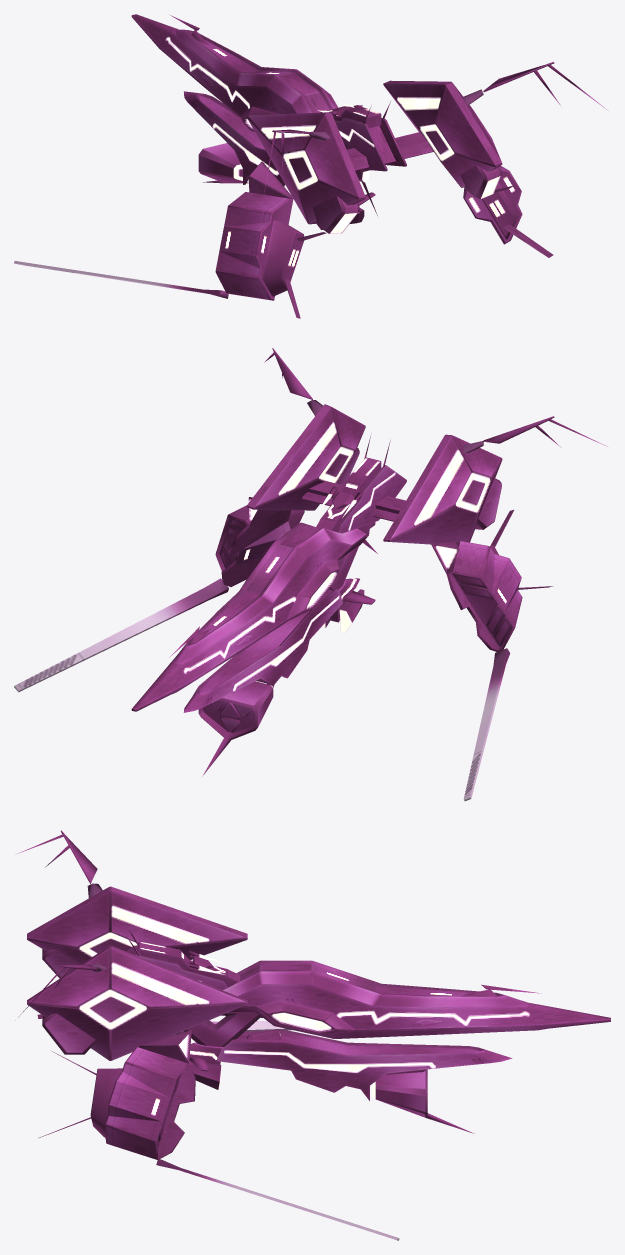
3 views of the same model, one above another, from view 1: azimuth 30°, elevation 25°; view 2: azimuth 150°, elevation 25°; view 3: azimuth 270°, elevation 25° (orthographic).
Visible parts, largest first — view 1: body; view 2: body; view 3: body.
Part boxes in pixels (x1=…): body: x1=14, y1=14, x2=606, y2=318; body: x1=14, y1=348, x2=607, y2=801; body: x1=15, y1=830, x2=610, y2=1240.
Bounding box in the file's own units: 277 × 139 × 318.
Materials: 1 (1 with a texture image).
